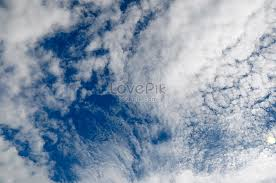sky: (1, 2, 275, 183)
